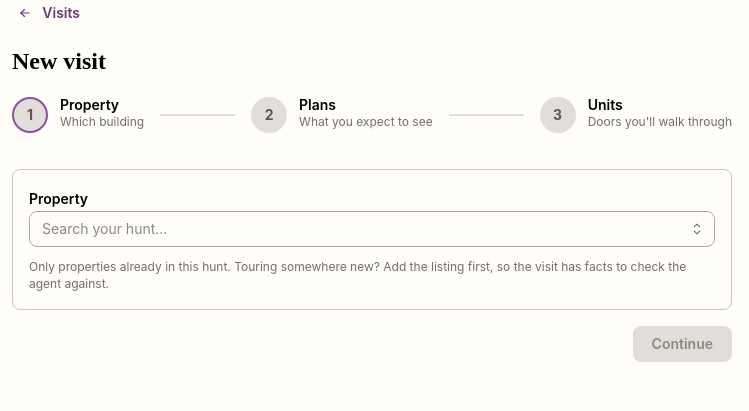
Test: VisitCreatePage › says so plainly when a listing has no current plans, instead of an empty step
This screenshot has width=749, height=411.
Click the dropdown labelled "Property" at (372, 229), box [29,211,715,247]
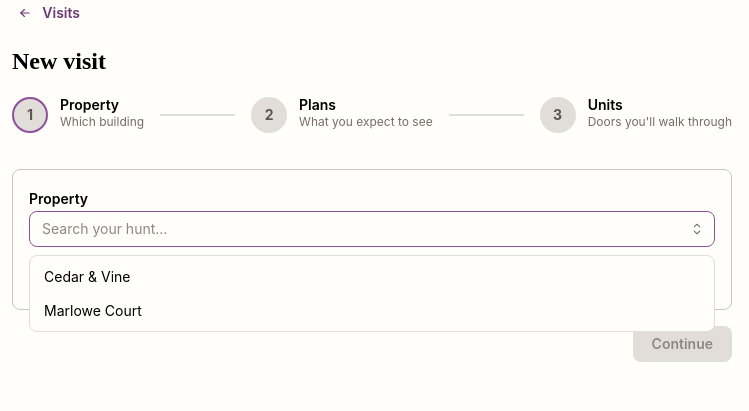
Click the option "Marlowe Court" at (93, 310), box [44,302,142,319]
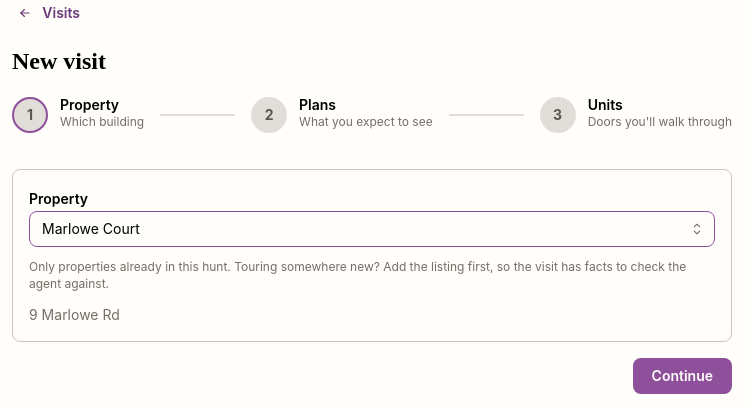
Click the button "Continue" at (682, 376), box [633,358,732,394]
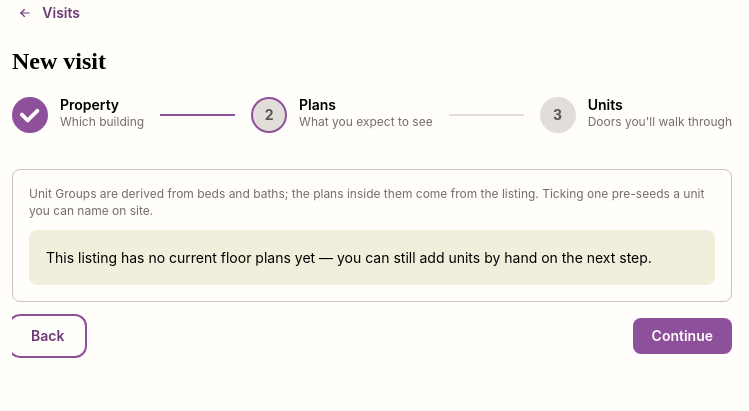
Now the text "no current floor plans yet" is shown, box [46,249,652,266]
